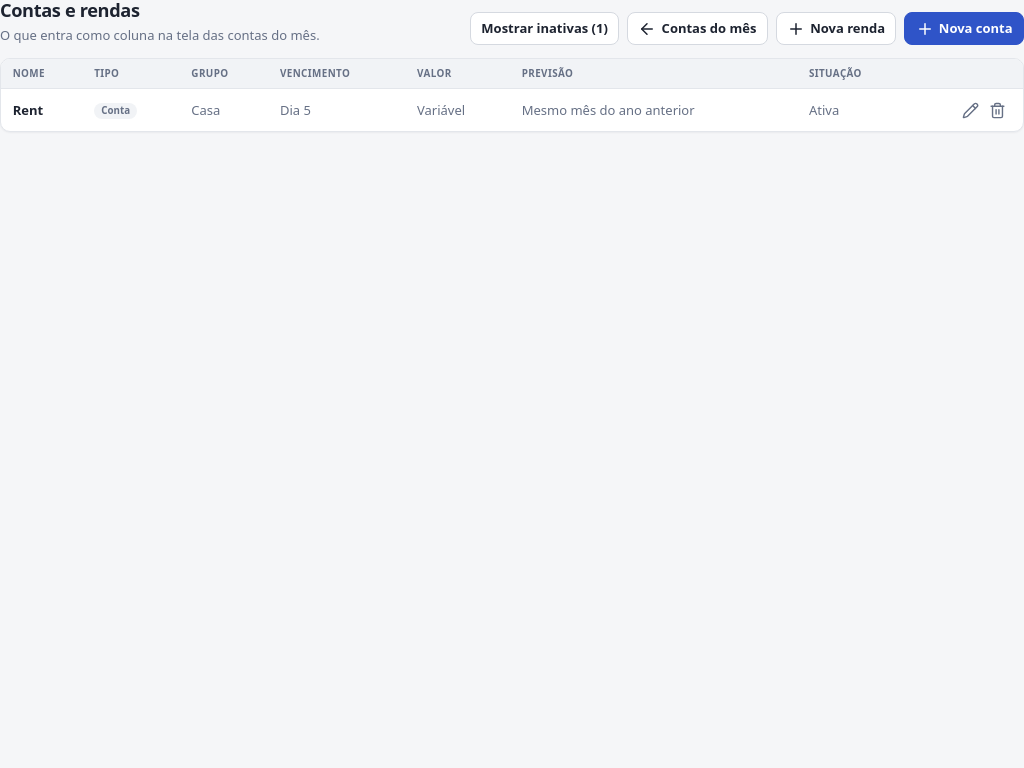
Test: BudgetLinesPage › keeps the form open with the server errors when saving fails
The image size is (1024, 768).
What coordinates should you click on to do the following:
click the button named "Editar Rent"
I would click on:
 (970, 110)
Its box is top-left (957, 96), bottom-right (984, 124).
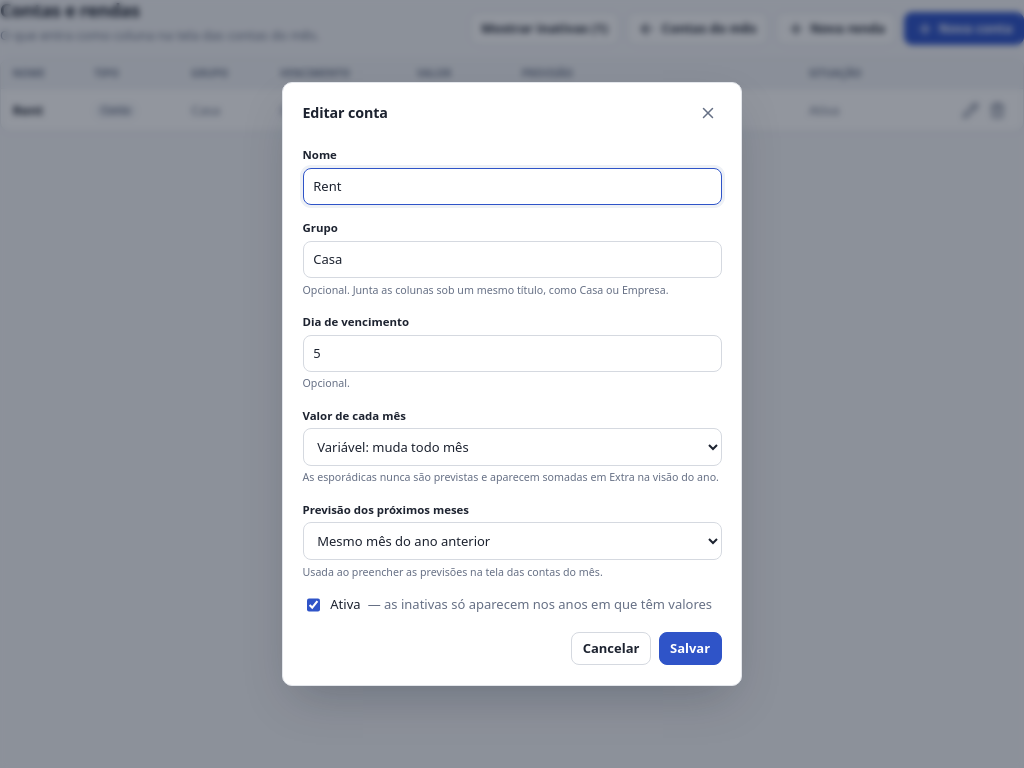
What coordinates should you click on to do the following:
click the button "Salvar"
I would click on:
 (690, 649)
Its box is top-left (659, 632), bottom-right (722, 665).
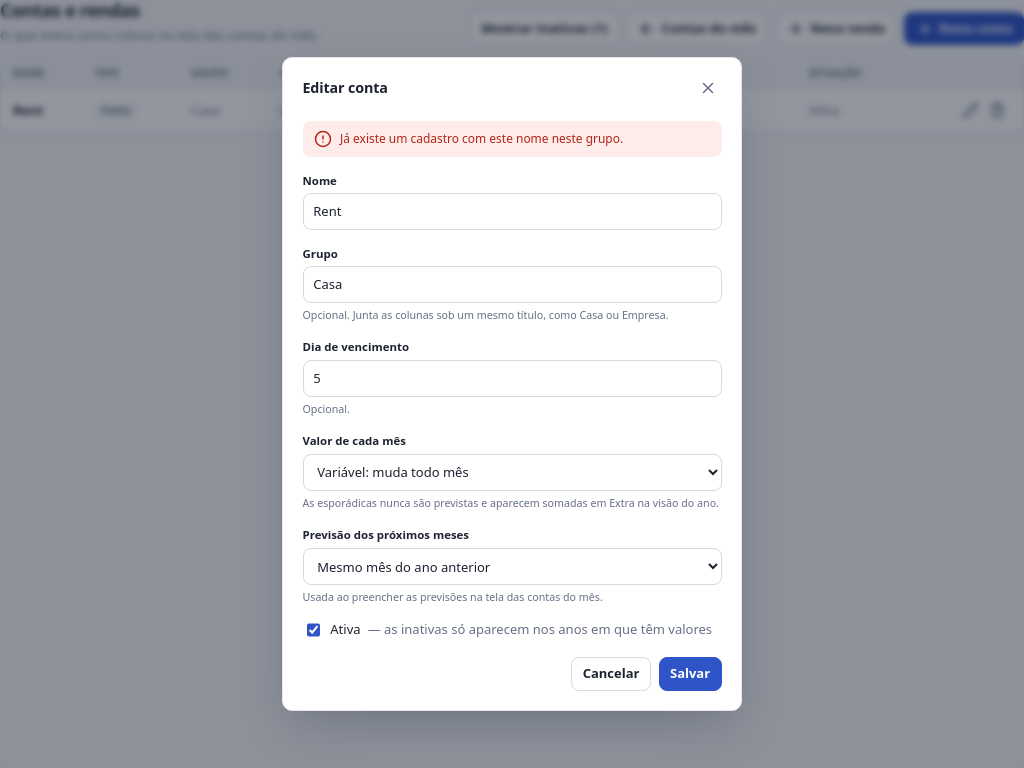
Check: the message reads "Já existe um cadastro com este nome neste grupo.", box top-left (340, 130), bottom-right (623, 147)
